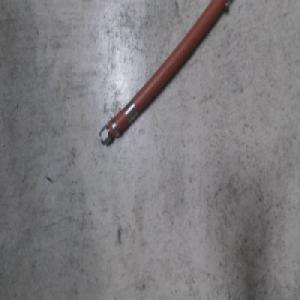Hose: (97, 0, 232, 148)
